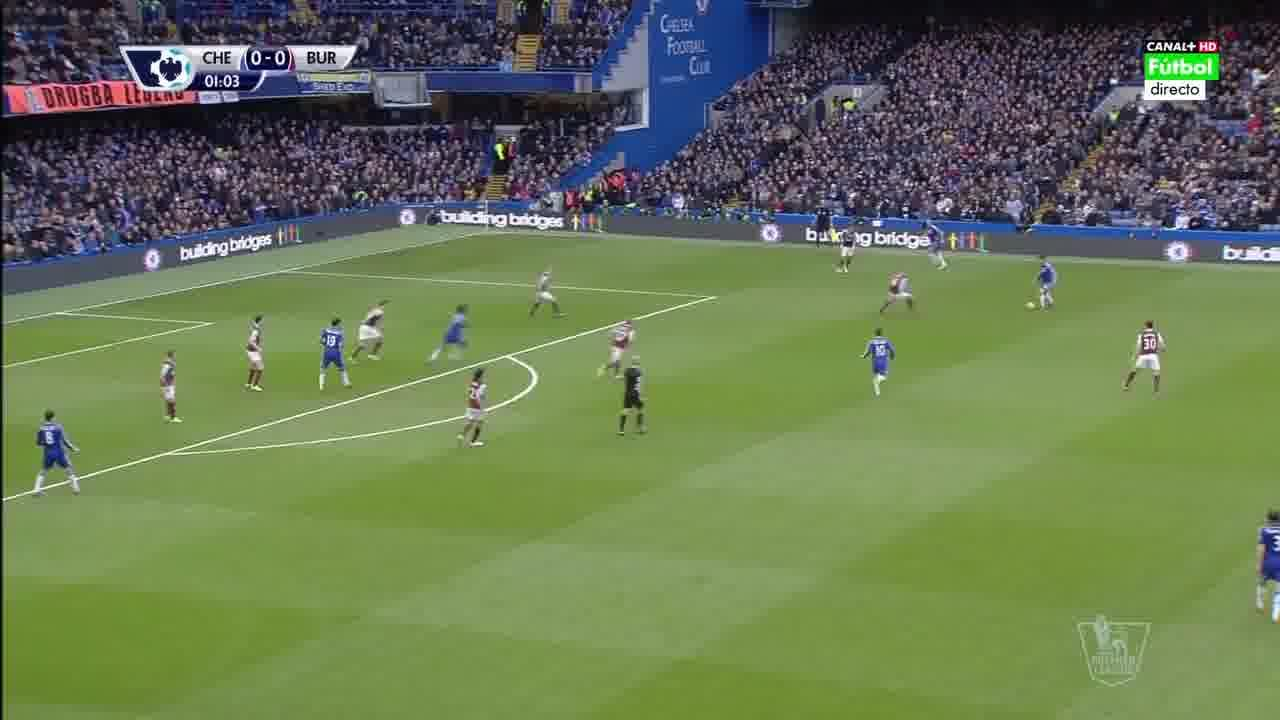football: (1024, 302, 1037, 311)
